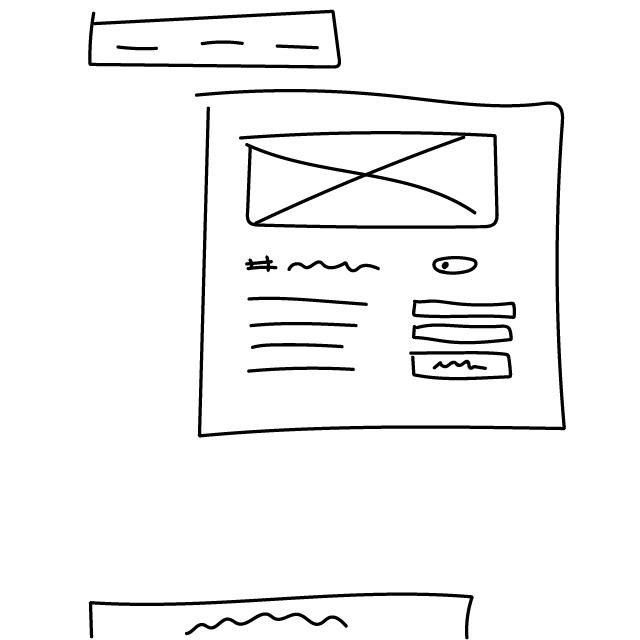button: (408, 348, 516, 386)
checkbox: (430, 253, 484, 277)
container: (188, 84, 585, 451)
footer: (75, 590, 483, 640)
frame: (239, 129, 506, 232)
heading: (245, 249, 386, 284)
input: (413, 297, 520, 324), (410, 321, 516, 345)
nav: (83, 8, 347, 75)
text: (243, 288, 374, 383)
